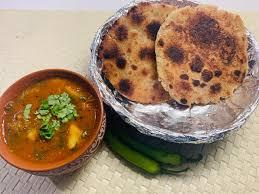bhakri: (152, 6, 252, 104), (101, 2, 188, 106)
